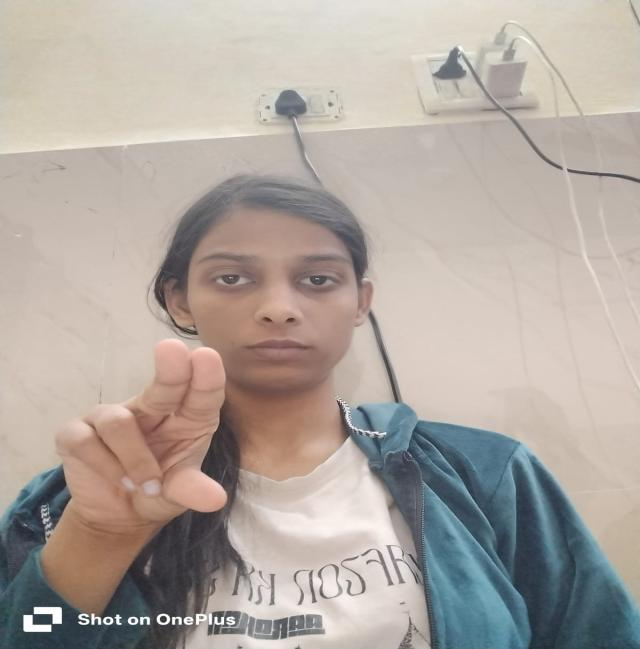No: (27, 331, 263, 557)
